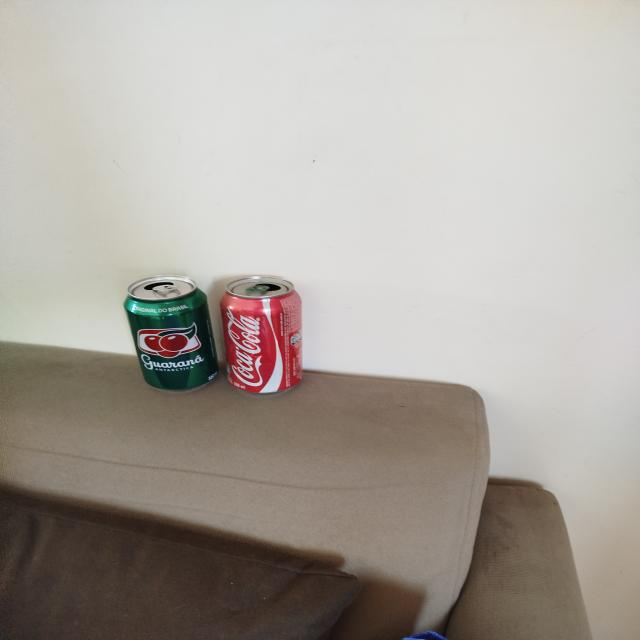Coca Cola: (220, 276, 305, 395)
Guarana: (123, 275, 222, 391)
